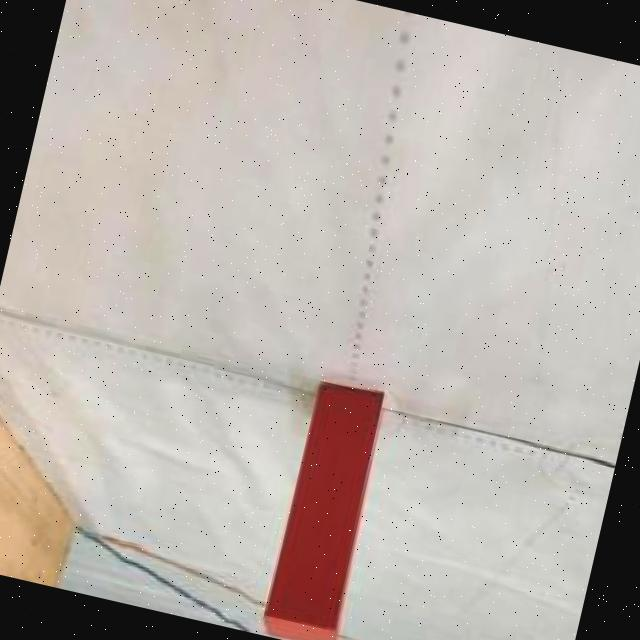redbox: (260, 379, 393, 640)
